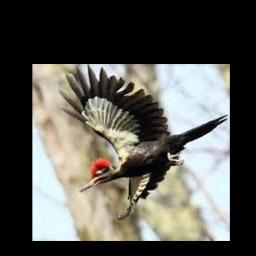Woodpecker: (59, 64, 228, 219)
